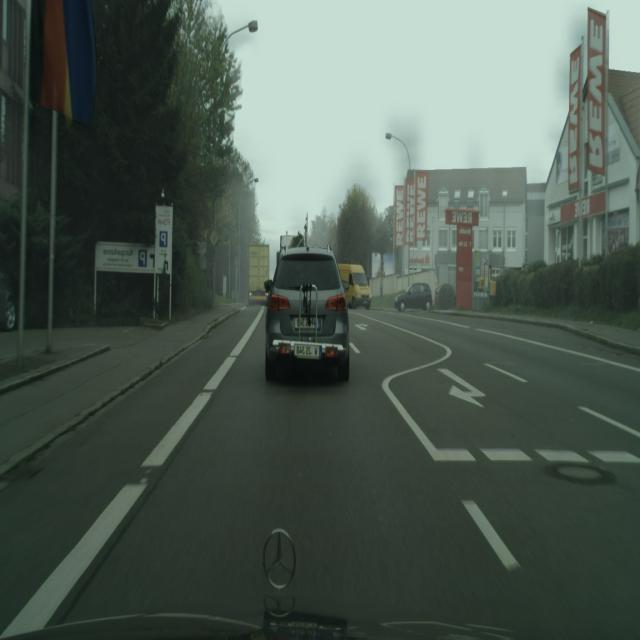person: (264, 247, 350, 384), (338, 261, 372, 309), (394, 282, 433, 312), (0, 271, 17, 332)
